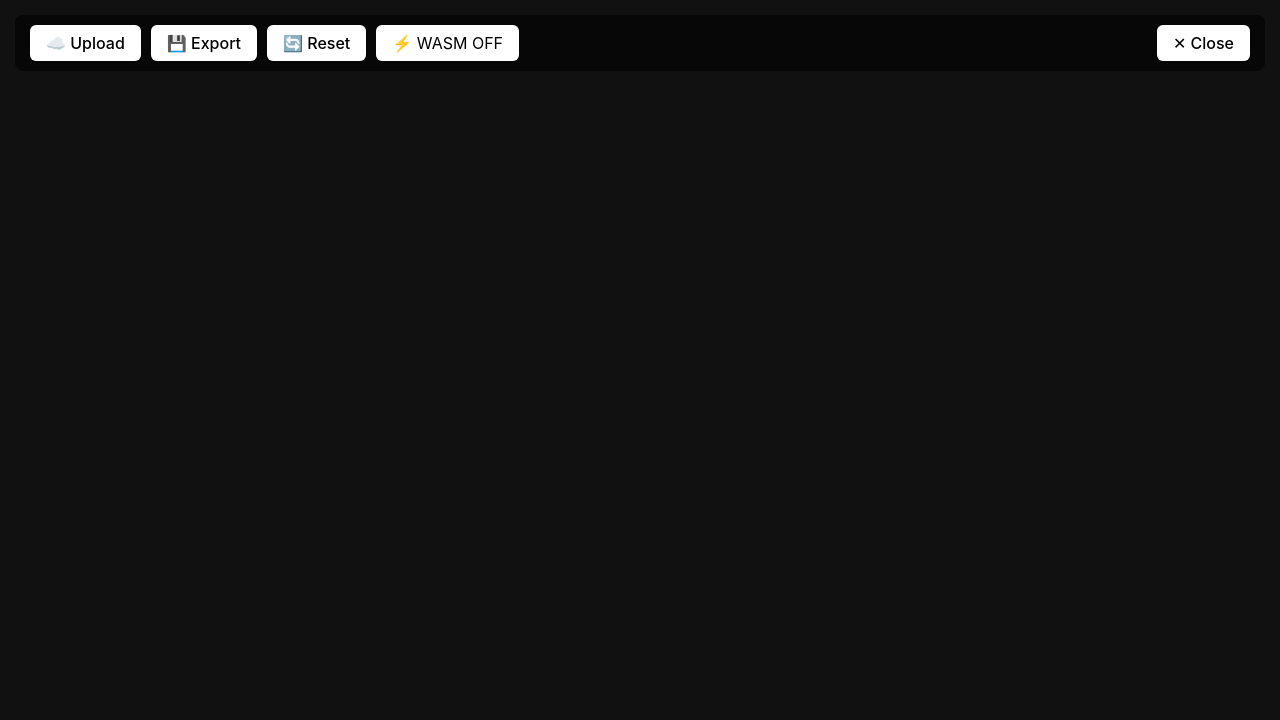
Scenario: Viewer Component › should toggle WASM on/off
Click the button "⚡ WASM OFF" at (448, 43), box 376,25 -> 519,61
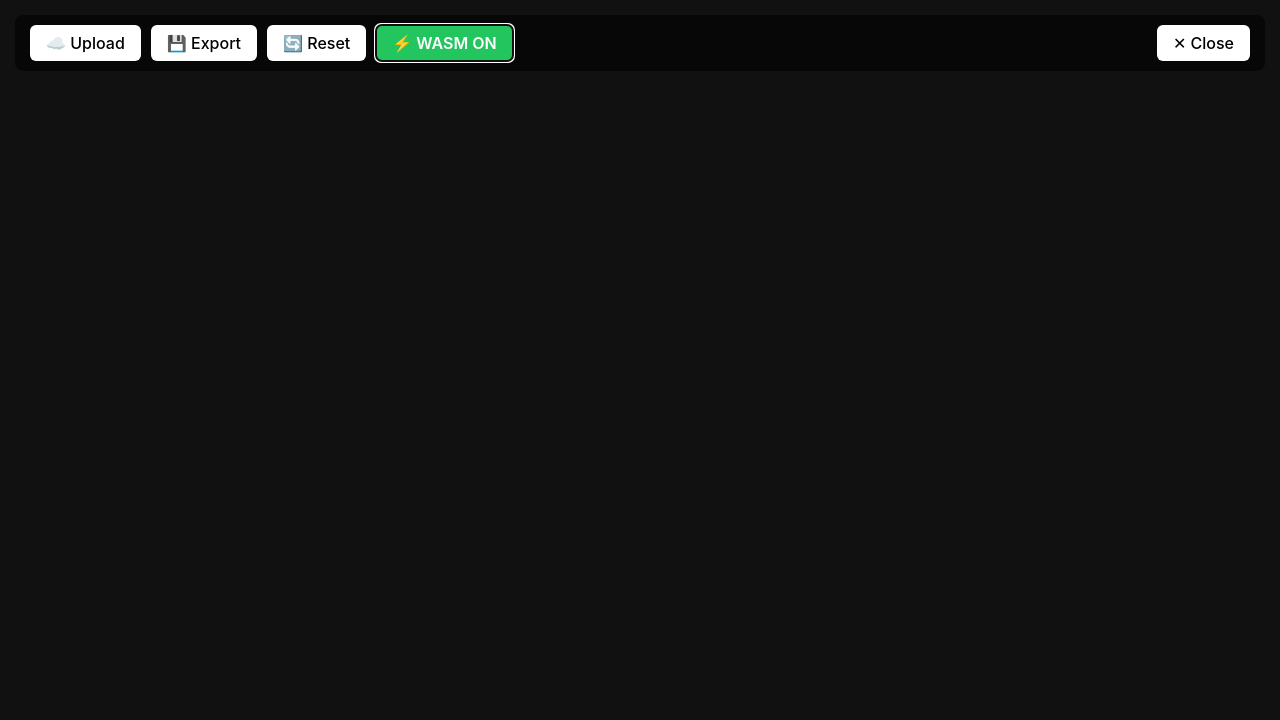
Expected: the button "⚡ WASM ON" is shown, 376,25 -> 513,61
